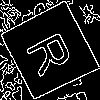R: (24, 25, 82, 79)
